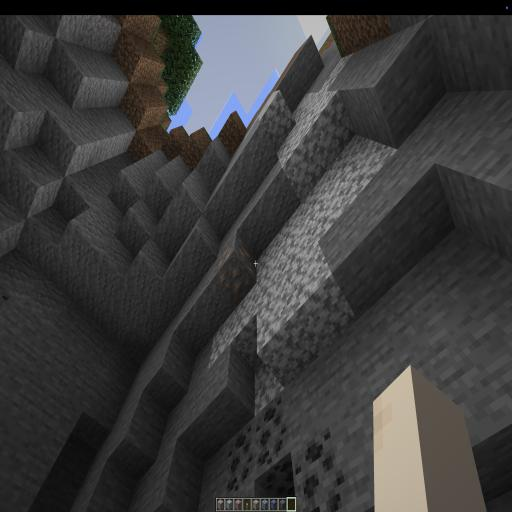coal ore: (224, 392, 341, 512)
iron ore: (214, 246, 258, 299)
